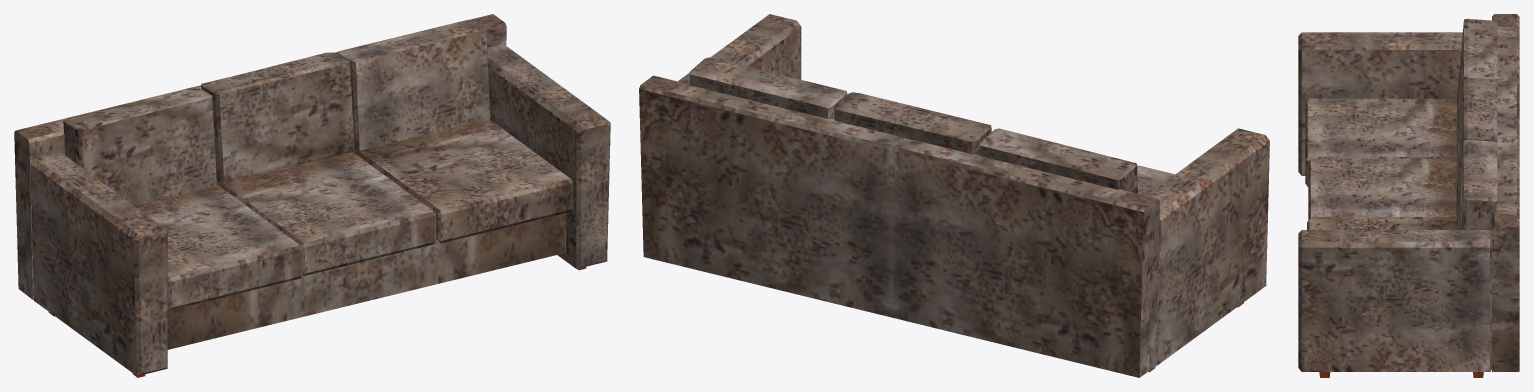
Rendered from couch_large_pattern.obj.
3 renders of one model, left to right at view 1: azimuth 30°, elevation 25°; view 2: azimuth 150°, elevation 25°; view 3: azimuth 270°, elevation 25°, orthographic. The views are drawn at different scales.
Parts seen in each view (by area): view 1: couch_large_pattern; view 2: couch_large_pattern; view 3: couch_large_pattern.
Boxes of the visible parts, left/top/right/bottom form: couch_large_pattern: left=14, top=14, right=610, bottom=377; couch_large_pattern: left=639, top=14, right=1269, bottom=377; couch_large_pattern: left=1298, top=14, right=1519, bottom=377.
Bounding box in the file's own units: 3.16 × 1.19 × 1.39.
